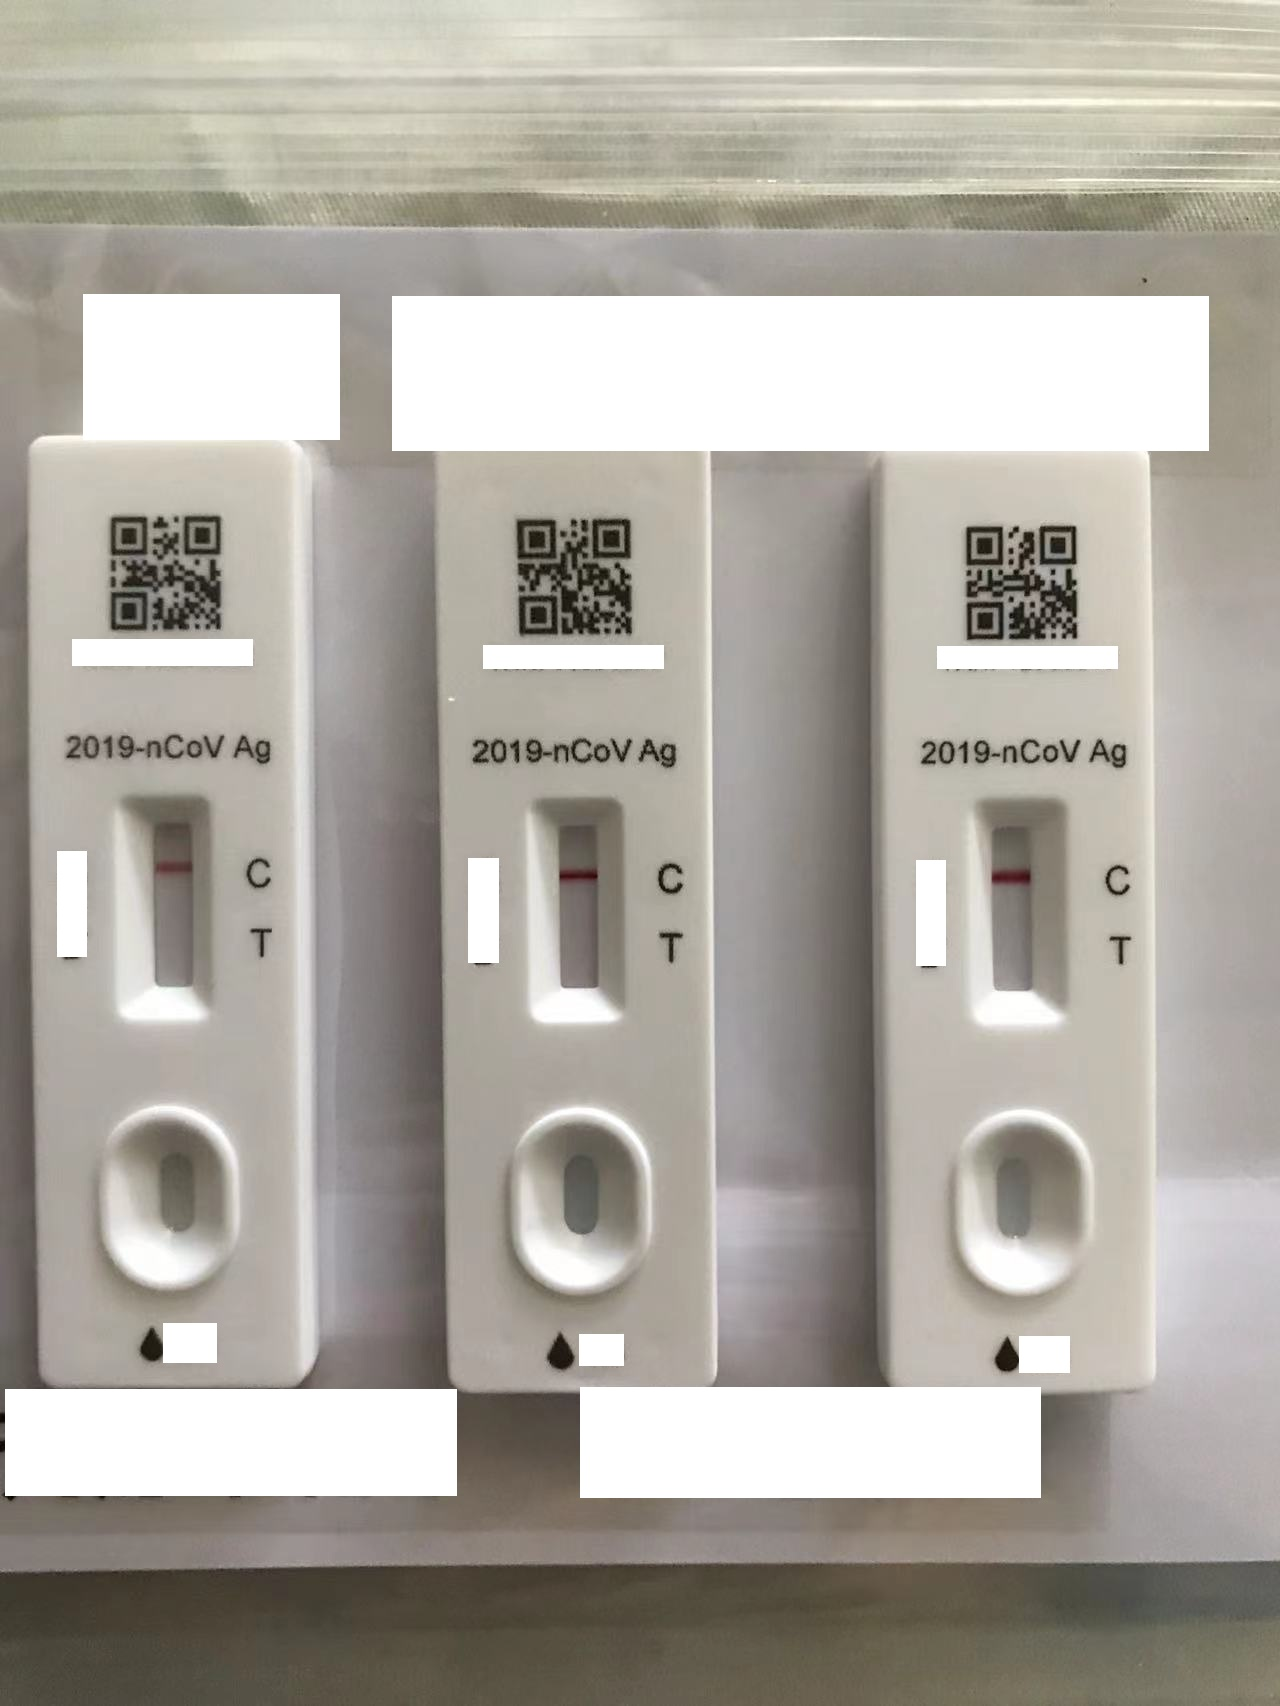negative: (969, 786, 1076, 1024), (528, 784, 627, 1020), (121, 790, 216, 1010)
